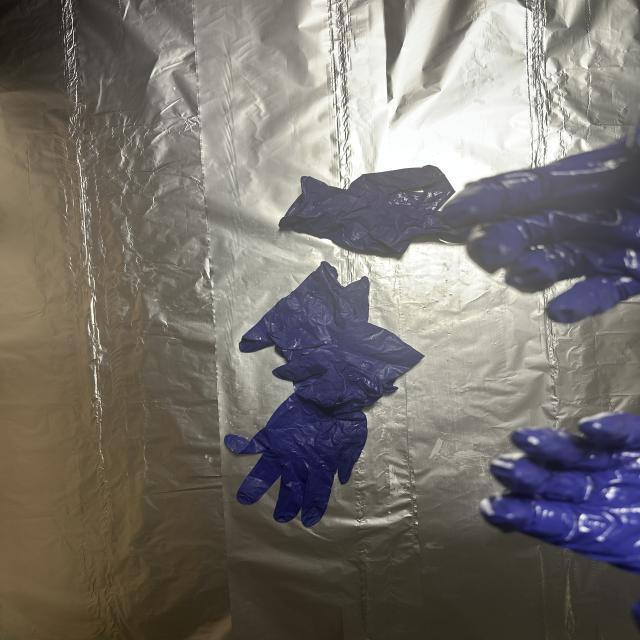gloves_contaminated: (442, 129, 640, 322), (480, 411, 640, 575)
